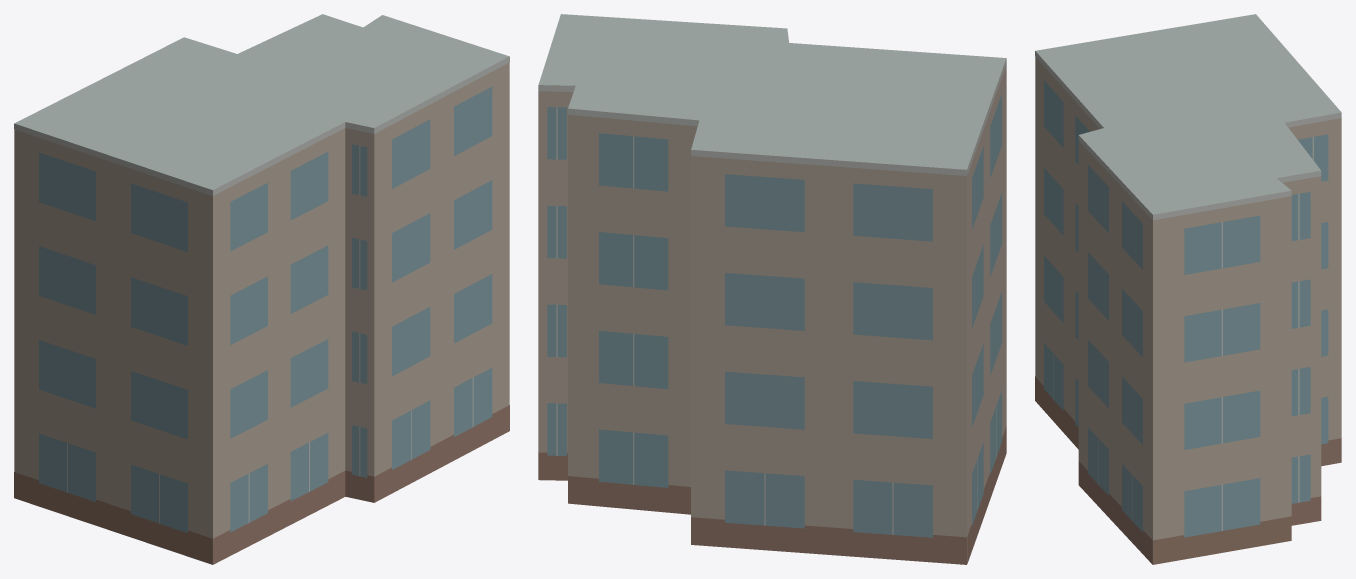
The model's file is survey-upis-32861139.glb.
3 views of the same model, side by side, from view 1: azimuth 30°, elevation 25°; view 2: azimuth 150°, elevation 25°; view 3: azimuth 270°, elevation 25° (orthographic). The views are drawn at different scales.
Parts seen in each view (by area): view 1: survey-upis-32861139.tmp; view 2: survey-upis-32861139.tmp; view 3: survey-upis-32861139.tmp.
Boxes of the visible parts, left/top/right/bottom form: survey-upis-32861139.tmp: left=14, top=14, right=509, bottom=564; survey-upis-32861139.tmp: left=538, top=14, right=1006, bottom=564; survey-upis-32861139.tmp: left=1035, top=14, right=1341, bottom=564.
Bounding box in the file's own units: 19.07 × 15.5 × 12.31.
